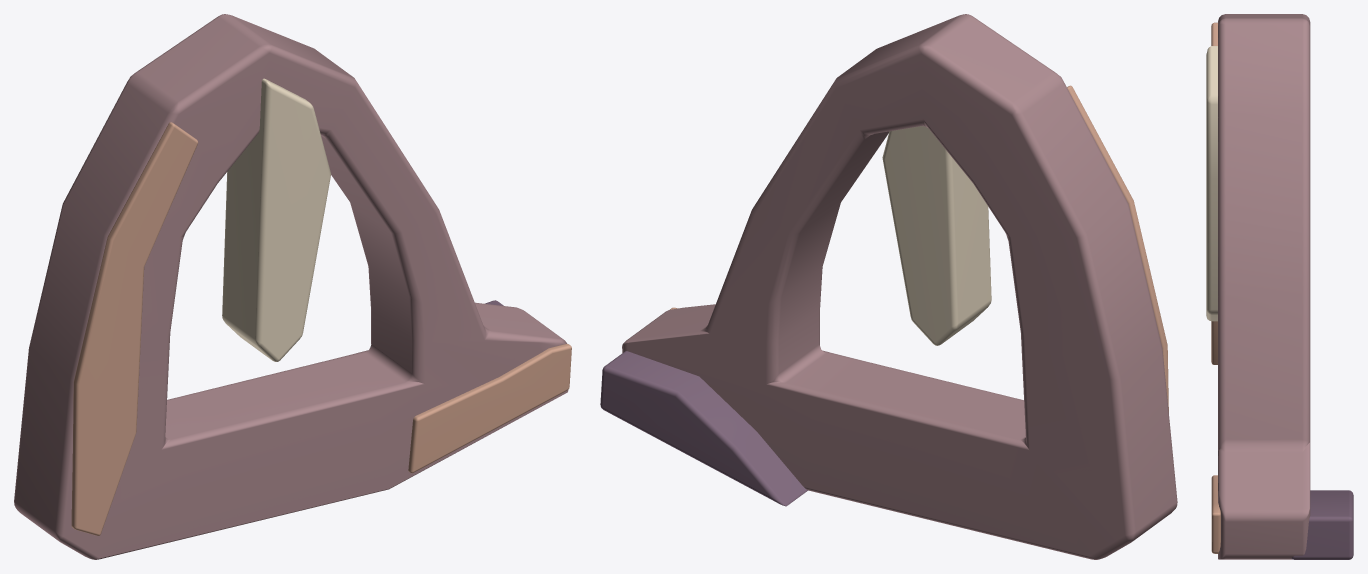
Rendered from oblique-tide-calibrator.glb.
3 renders of one model, left to right at view 1: azimuth 30°, elevation 25°; view 2: azimuth 150°, elevation 25°; view 3: azimuth 270°, elevation 25°, orthographic. The views are drawn at different scales.
Visible parts, largest first — view 1: one_piece_inclined_calibration_arch, integral_broad_oscillator_tongue, forged_left_load_strip, lower_copper_contact_land; view 2: one_piece_inclined_calibration_arch, integral_broad_oscillator_tongue, offset_counterweight_heel, forged_left_load_strip; view 3: one_piece_inclined_calibration_arch, integral_broad_oscillator_tongue, offset_counterweight_heel, lower_copper_contact_land, forged_left_load_strip.
Boxes of the visible parts, left/top/right/bottom form: one_piece_inclined_calibration_arch: left=14, top=14, right=568, bottom=559; integral_broad_oscillator_tongue: left=222, top=78, right=331, bottom=361; forged_left_load_strip: left=71, top=122, right=198, bottom=535; lower_copper_contact_land: left=408, top=344, right=571, bottom=473; one_piece_inclined_calibration_arch: left=622, top=14, right=1177, bottom=559; integral_broad_oscillator_tongue: left=882, top=126, right=991, bottom=345; offset_counterweight_heel: left=600, top=351, right=807, bottom=506; forged_left_load_strip: left=1067, top=85, right=1168, bottom=412; one_piece_inclined_calibration_arch: left=1218, top=14, right=1310, bottom=559; integral_broad_oscillator_tongue: left=1206, top=46, right=1217, bottom=321; offset_counterweight_heel: left=1291, top=490, right=1353, bottom=559; lower_copper_contact_land: left=1211, top=475, right=1220, bottom=553; forged_left_load_strip: left=1211, top=22, right=1217, bottom=364.
Bounding box in the file's own units: 197 × 173 × 51.
